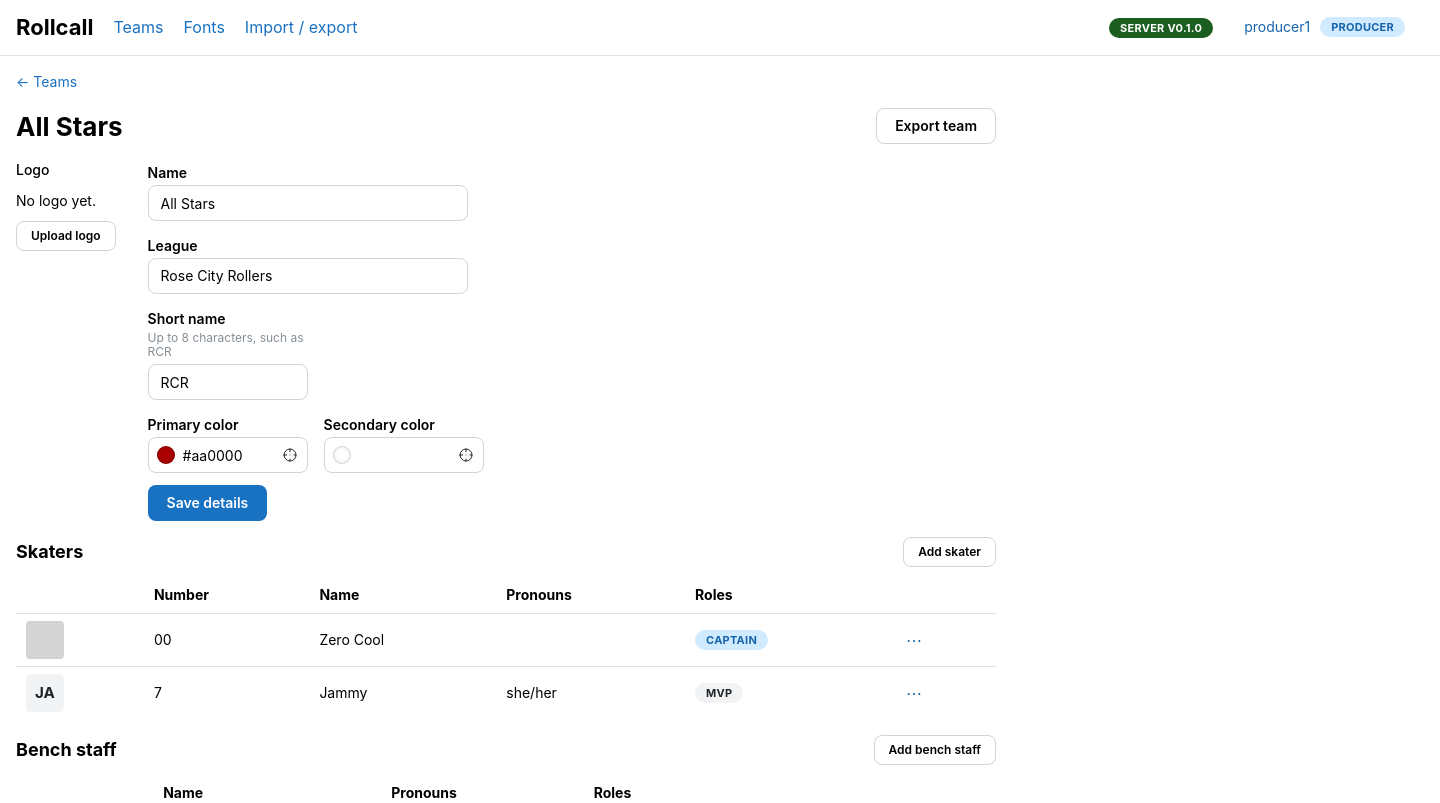
the Team page › says so when someone else deleted the team in the meantime
The image size is (1440, 803).
Check: the heading "All Stars" is shown, box [16,109,123,144]
Click the button "Save details" at (207, 503), box [148,485,267,521]
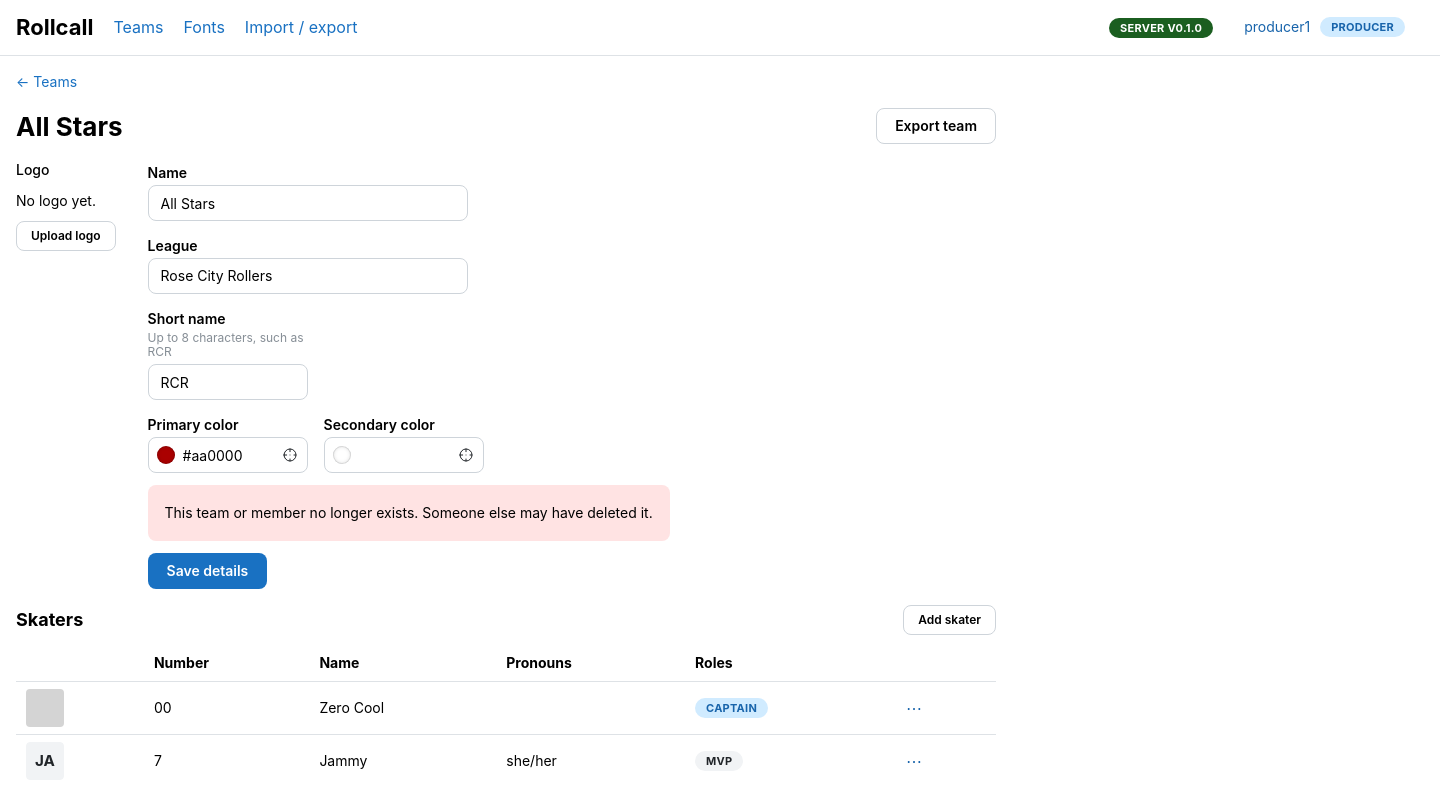
Check: the text "This team or member no longer exists. Someone else may have deleted it." is shown, box [164,502,653,524]
